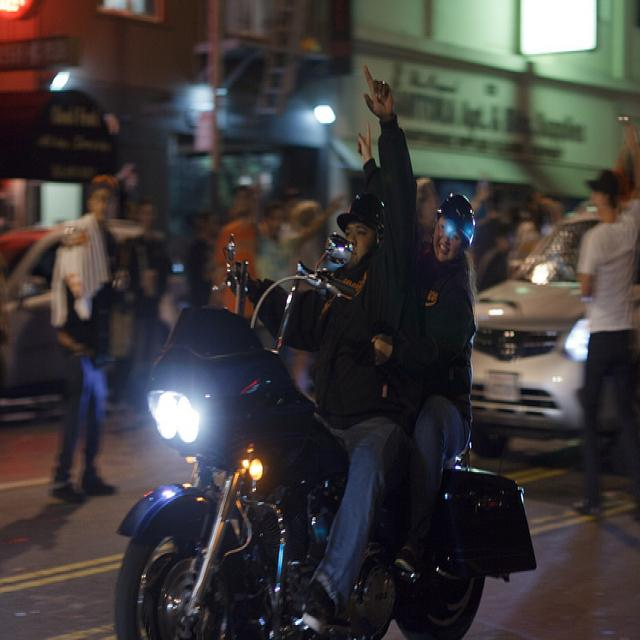Motorbike: (126, 278, 543, 640)
